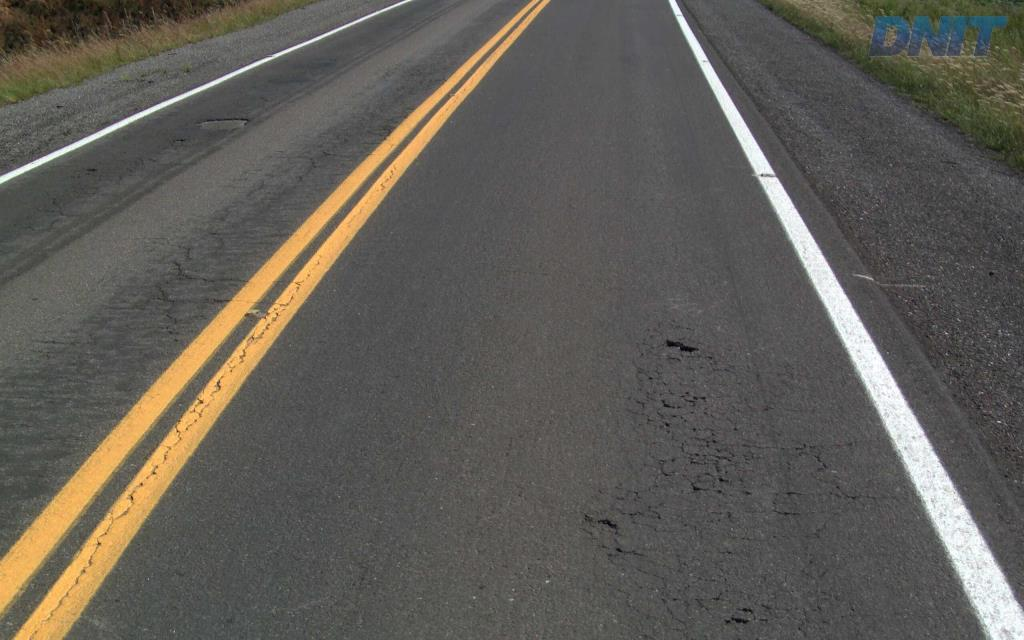crack: (678, 430, 782, 497), (766, 440, 826, 550), (657, 337, 717, 365), (795, 576, 845, 602), (580, 508, 622, 536)
